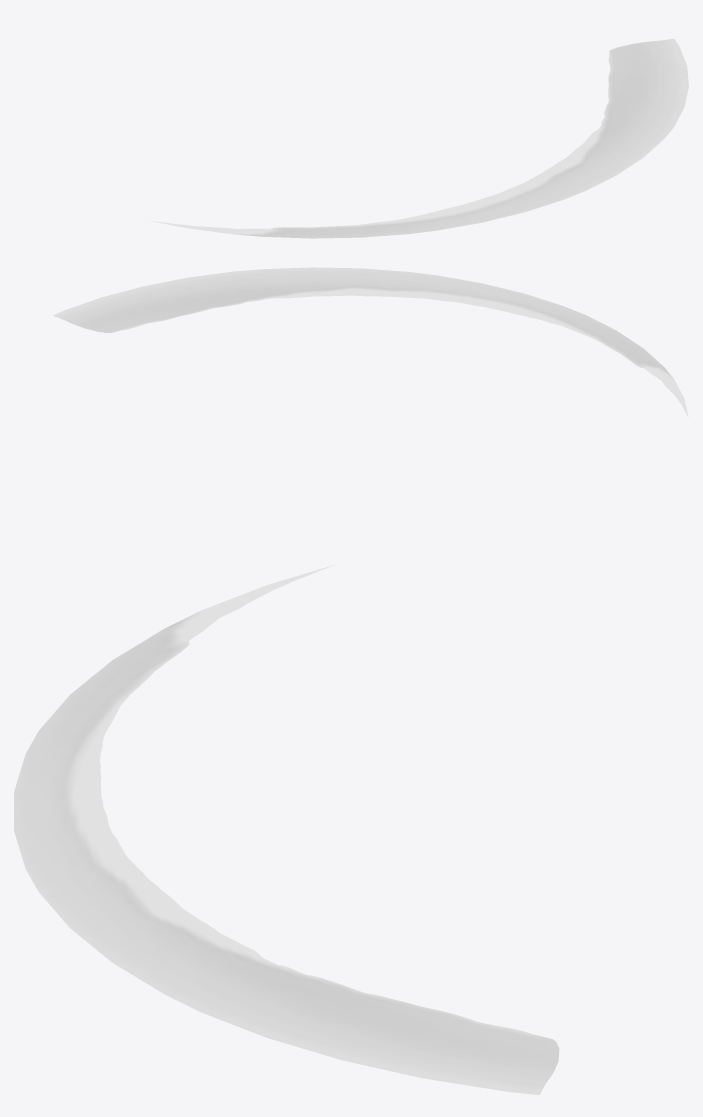
File: daoguang_811.FBX
3 views of the same model, one above another, from view 1: azimuth 30°, elevation 25°; view 2: azimuth 150°, elevation 25°; view 3: azimuth 270°, elevation 25° (orthographic). The views are drawn at different scales.
Parts seen in each view (by area): view 1: daoguang_811; view 2: daoguang_811; view 3: daoguang_811.
Part boxes in pixels (x1,y1,x2,y2): daoguang_811: [149, 38, 688, 238]; daoguang_811: [53, 267, 688, 417]; daoguang_811: [14, 565, 559, 1094].
Bounding box in the file's own units: 29.58 × 8.87e-16 × 14.49.
